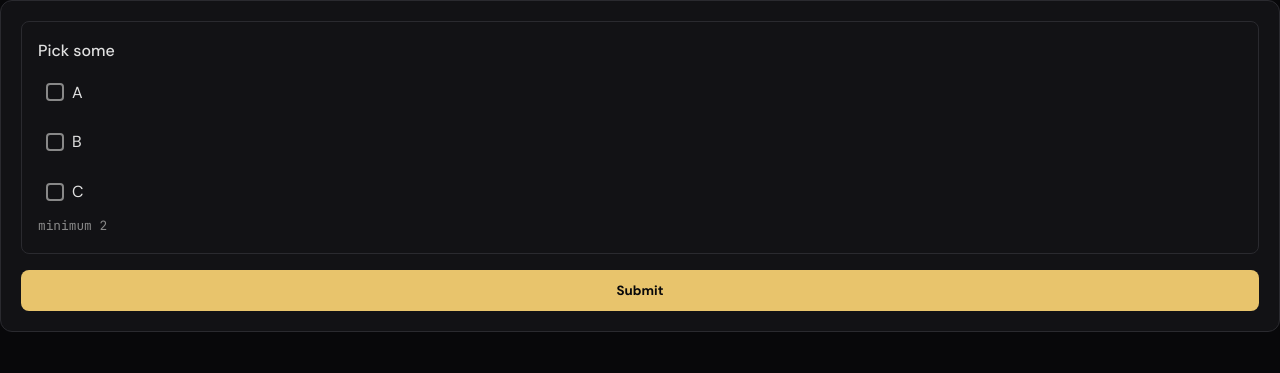
AskMessage validation › blocks submit when multi_select below min_select
The image size is (1280, 373).
// Select only one checkbox
Click the checkbox labelled "A".
click(55, 92)  # box [46,83,64,101]
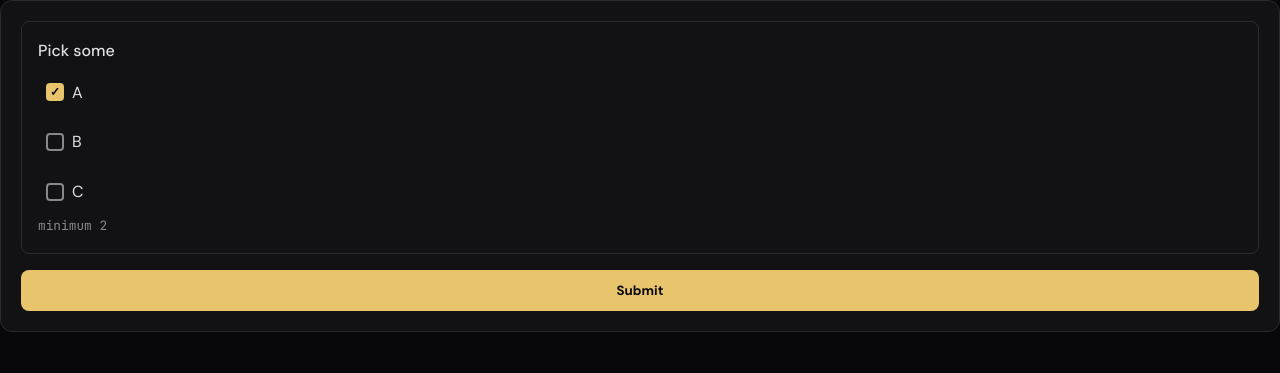
Click the button with test id "submit-btn".
click(640, 290)  # box [21,270,1259,311]
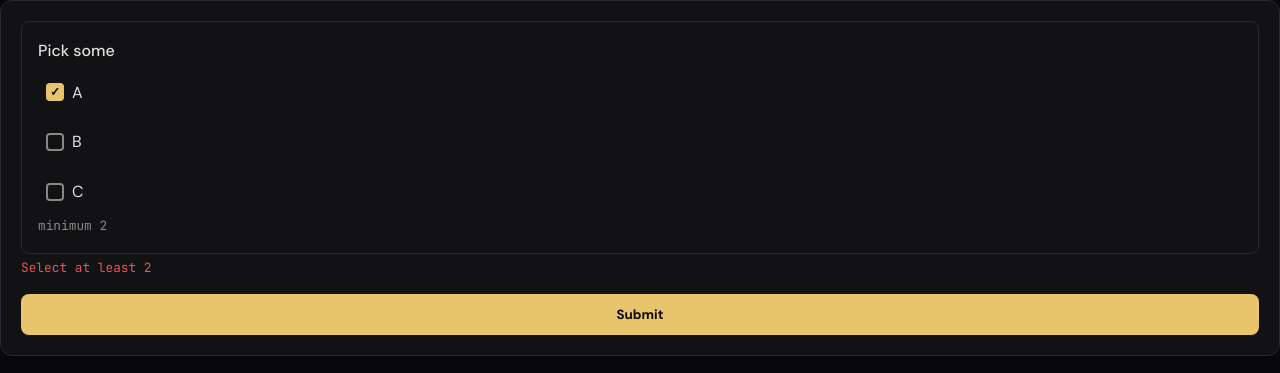
Result: the text with test id "error-q1" reads "Select at least 2" at [21,259,152,276]
